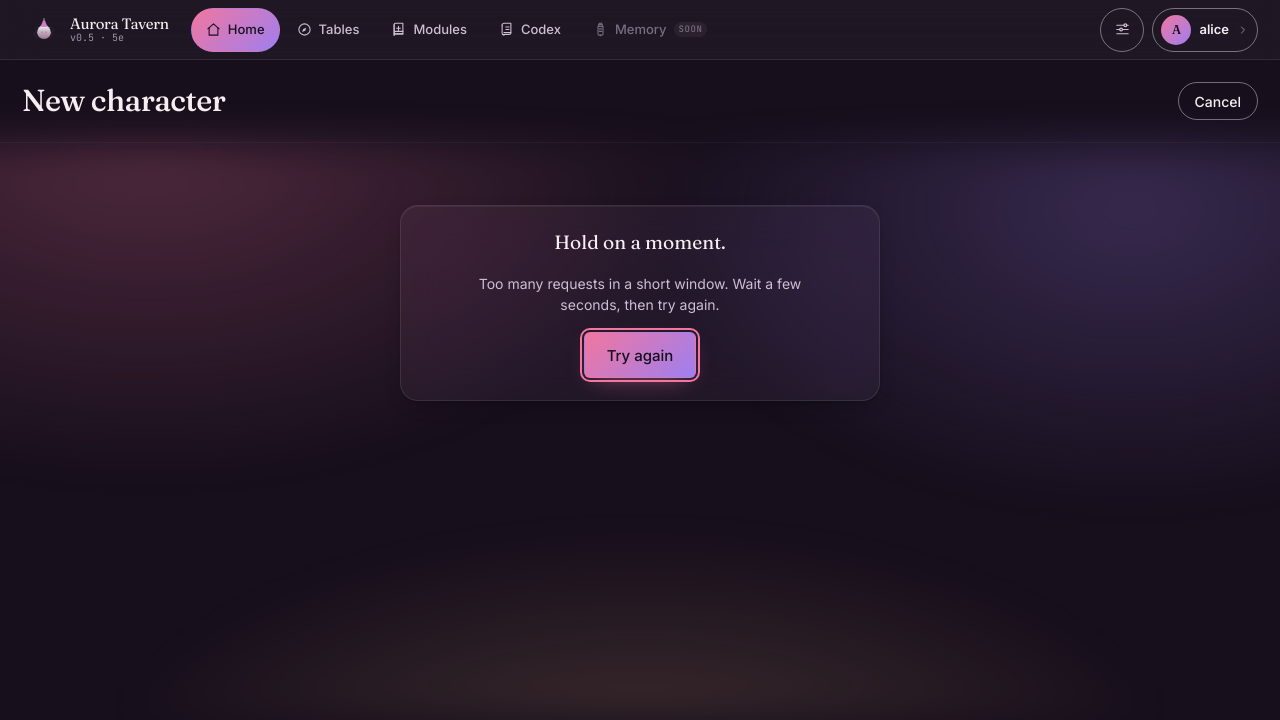
Test: TAV-WIZARD-429-HANG — limiter 429 during wizard boot › catalog endpoints answer 429 directly → rate-limited surface, and Try again recovers once the limiter cools
Check: the message shows "Hold on a moment", box 554,230 -> 726,254
Check: the message shows "Too many requests", box 479,275 -> 801,314
Click the button "Try again": [640, 355] box 584,332 -> 696,378
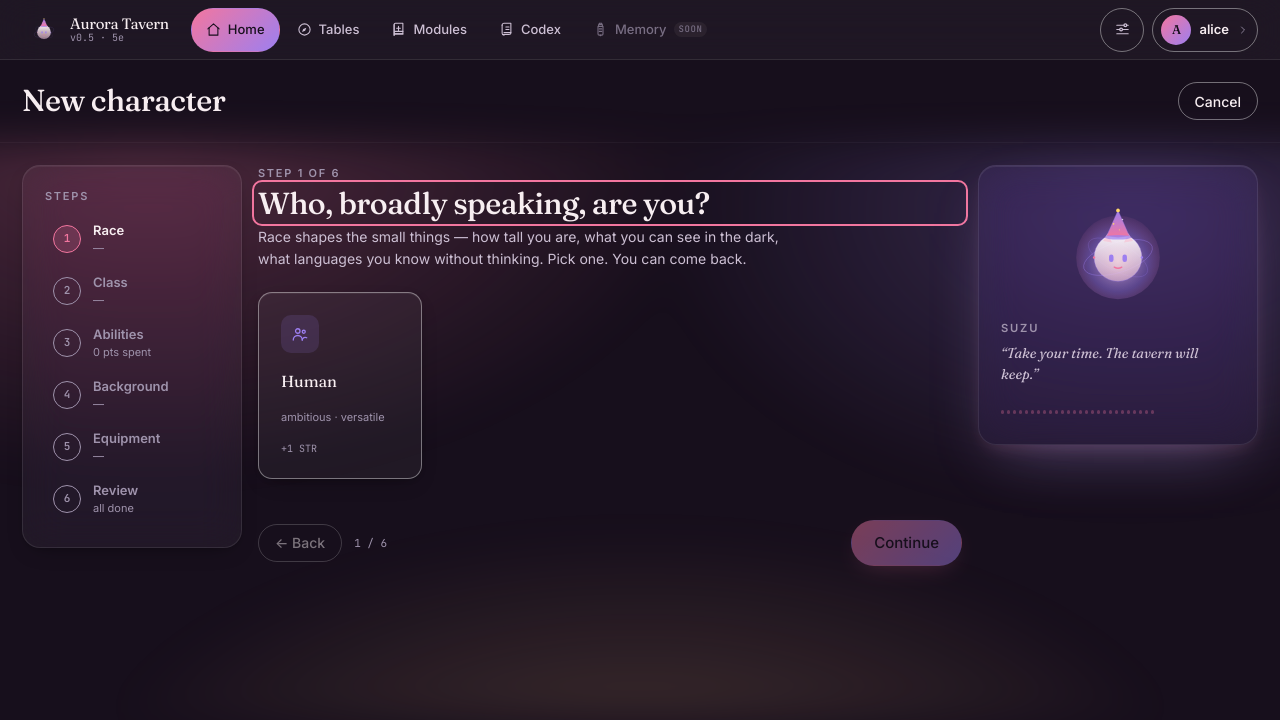
Check: the heading "Who, broadly speaking, are you?" is shown, box 258,184 -> 710,222
Check: the radio button labelled "Human ambitious · versatile +1 STR" is shown, box 258,292 -> 422,479
